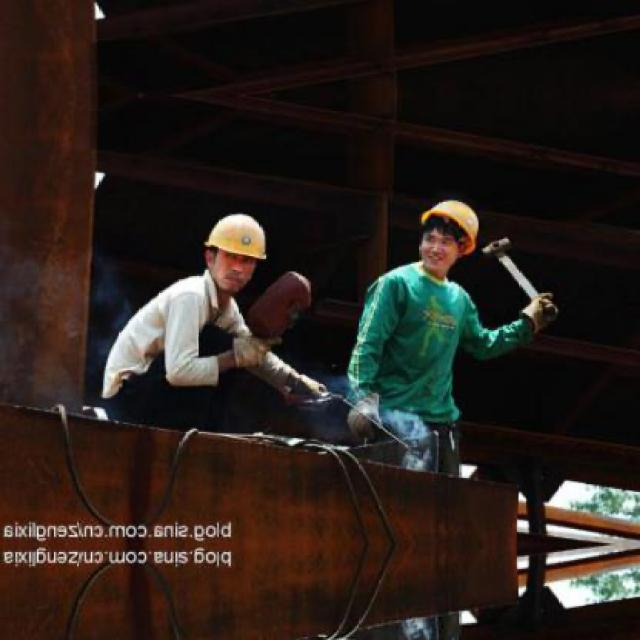helmet: (195, 207, 271, 296), (408, 190, 484, 276)
